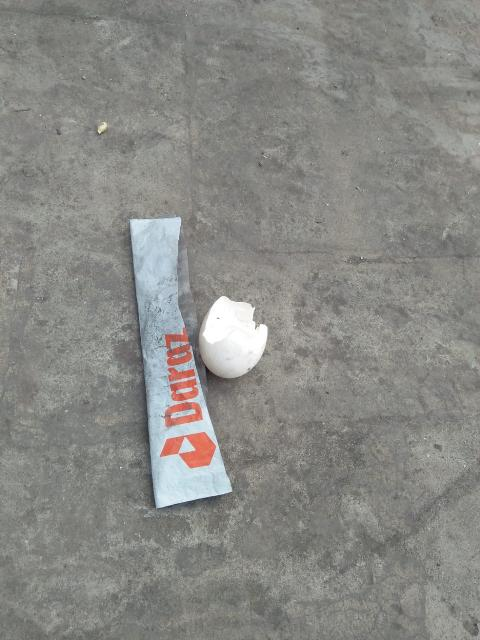Roto: (197, 294, 268, 379)
